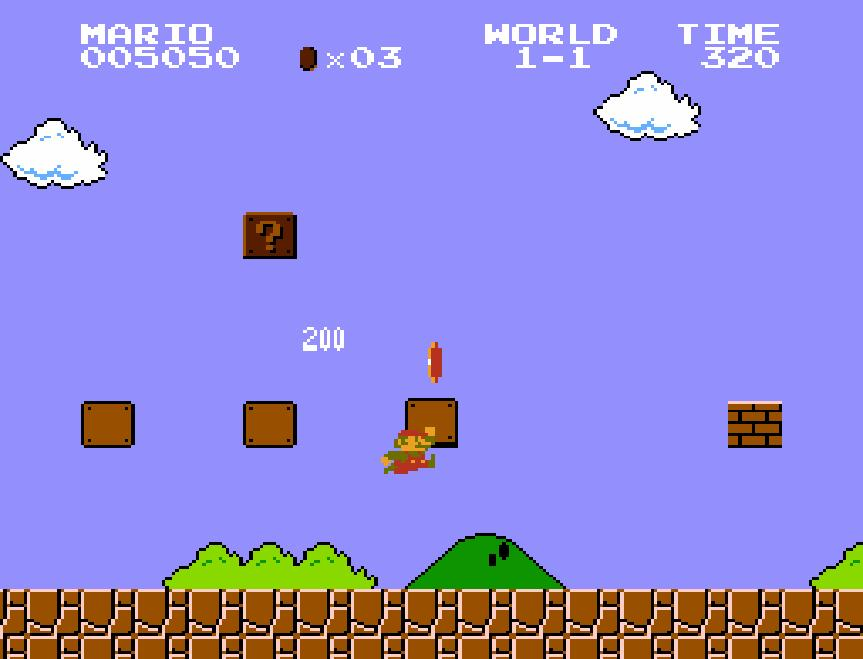little_mario: (379, 426, 437, 476)
